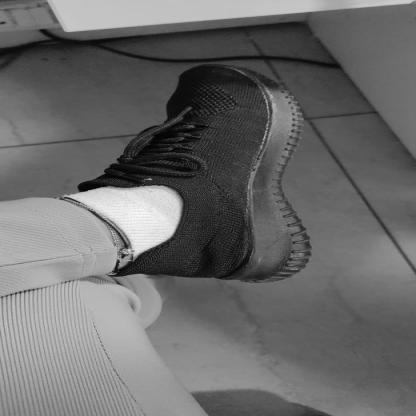ankle: (183, 215, 192, 220)
heel: (226, 271, 233, 276)
left_foot: (116, 64, 315, 284)
pinky: (175, 90, 183, 94)
toe: (243, 79, 249, 81)
